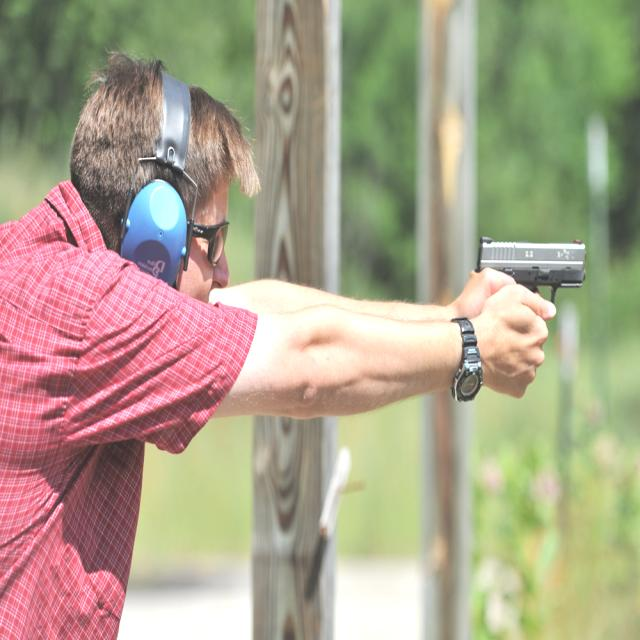pistol: (473, 226, 589, 360)
